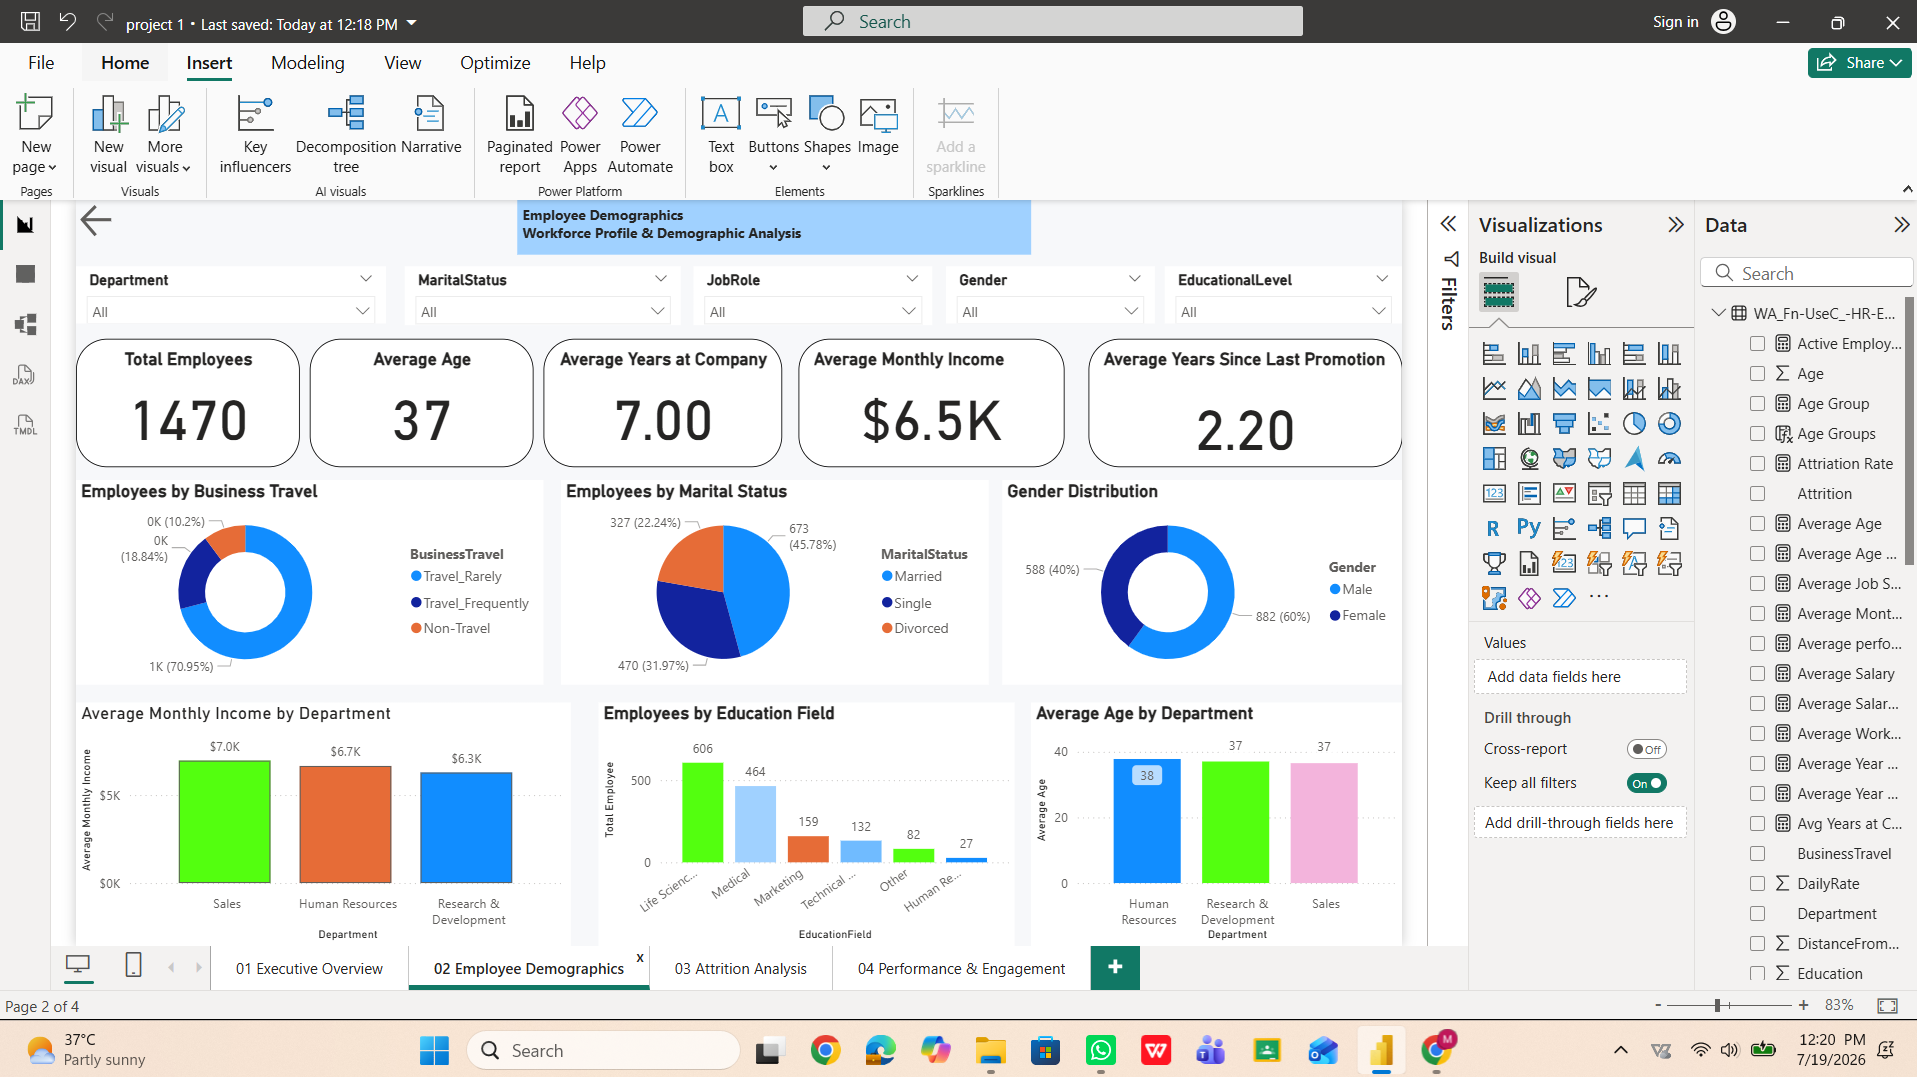

This screenshot's page, from the dashboard's own definition file:
{"tool":"powerbi","page":{"name":"02 Employee Demographics","canvas":[1280,720],"ordinal":1},"visuals":[{"type":"slicer","fields":{"Values":["WA_Fn-UseC_-HR-Employee-Attrition.Department"]},"box":[0,63.9,299.2,55.5],"z":0},{"type":"slicer","fields":{"Values":["WA_Fn-UseC_-HR-Employee-Attrition.Gender"]},"box":[839.7,63.9,201.5,55.5],"z":1000},{"type":"slicer","fields":{"Values":["WA_Fn-UseC_-HR-Employee-Attrition.Educational Column "]},"box":[1050.8,63.9,229.2,55.5],"z":2000},{"type":"slicer","fields":{"Values":["WA_Fn-UseC_-HR-Employee-Attrition.MaritalStatus"]},"box":[317.3,63.9,266.6,56.7],"z":3000},{"type":"slicer","fields":{"Values":["WA_Fn-UseC_-HR-Employee-Attrition.JobRole"]},"box":[596,63.9,230.4,56.7],"z":4000},{"type":"card","title":"Total Employees ","fields":{"Values":["WA_Fn-UseC_-HR-Employee-Attrition.Total Employee"]},"box":[0,133.9,216,124.3],"z":5000},{"type":"card","title":"Average Age ","fields":{"Values":["WA_Fn-UseC_-HR-Employee-Attrition.Average Age"]},"box":[225.6,133.9,216,124.3],"z":6000},{"type":"card","title":"Average Years at Company","fields":{"Values":["WA_Fn-UseC_-HR-Employee-Attrition.Average Age in companay"]},"box":[451.2,133.9,230.4,124.3],"z":7000},{"type":"card","title":"Average Monthly Income ","fields":{"Values":["WA_Fn-UseC_-HR-Employee-Attrition.Average Monthly Income"]},"box":[697.3,133.9,257,124.3],"z":8000},{"type":"card","title":"Average Years  Since Last Promotion ","fields":{"Values":["WA_Fn-UseC_-HR-Employee-Attrition.Average Year Since Last Promotion"]},"box":[977.2,133.9,302.8,124.3],"z":9000},{"type":"donutChart","title":"Gender Distribution","fields":{"Category":["WA_Fn-UseC_-HR-Employee-Attrition.Gender"],"Y":["WA_Fn-UseC_-HR-Employee-Attrition.Total Employee"]},"box":[894,270.2,386.1,197.9],"z":10000},{"type":"pieChart","title":"Employees by Marital Status","fields":{"Category":["WA_Fn-UseC_-HR-Employee-Attrition.MaritalStatus"],"Y":["WA_Fn-UseC_-HR-Employee-Attrition.Total Employee"]},"box":[468.1,270.2,412.6,197.9],"z":11000},{"type":"columnChart","title":"Employees by Education Field","fields":{"Category":["WA_Fn-UseC_-HR-Employee-Attrition.EducationField"],"Y":["WA_Fn-UseC_-HR-Employee-Attrition.Total Employee"]},"box":[504.3,485,401.7,235.3],"z":12000},{"type":"donutChart","title":"Employees by Business Travel","fields":{"Category":["WA_Fn-UseC_-HR-Employee-Attrition.BusinessTravel"],"Y":["WA_Fn-UseC_-HR-Employee-Attrition.Total Employee"]},"box":[0,270.2,451.2,197.9],"z":14000},{"type":"columnChart","fields":{"Category":["WA_Fn-UseC_-HR-Employee-Attrition.Department"],"Y":["WA_Fn-UseC_-HR-Employee-Attrition.Average Monthly Income"]},"box":[0,485,477.8,235.3],"z":15000},{"type":"lineStackedColumnComboChart","fields":{"Category":["WA_Fn-UseC_-HR-Employee-Attrition.Department"],"Y":["WA_Fn-UseC_-HR-Employee-Attrition.Average Age"]},"box":[921.7,485,358.3,235.3],"z":16000},{"type":"actionButton","box":[0,0,100,40],"z":16001},{"type":"textbox","box":[425.9,0,495.8,53.1],"z":16002}]}

Visuals, with their boxes on the page's 1280x720 design canvas (x1, y1, x2, y2). These are canvas units, not pixel positions in the 1917x1077 screenshot, which may show the page scaled, cropped or inside an application window:
slicer - WA_Fn-UseC_-HR-Employee-Attrition.Department: locate(0, 64, 299, 119)
slicer - WA_Fn-UseC_-HR-Employee-Attrition.Gender: locate(840, 64, 1041, 119)
slicer - WA_Fn-UseC_-HR-Employee-Attrition.Educational Column : locate(1051, 64, 1280, 119)
slicer - WA_Fn-UseC_-HR-Employee-Attrition.MaritalStatus: locate(317, 64, 584, 121)
slicer - WA_Fn-UseC_-HR-Employee-Attrition.JobRole: locate(596, 64, 826, 121)
"Total Employees " card: locate(0, 134, 216, 258)
"Average Age " card: locate(226, 134, 442, 258)
"Average Years at Company" card: locate(451, 134, 682, 258)
"Average Monthly Income " card: locate(697, 134, 954, 258)
"Average Years  Since Last Promotion " card: locate(977, 134, 1280, 258)
"Gender Distribution" donutChart: locate(894, 270, 1280, 468)
"Employees by Marital Status" pieChart: locate(468, 270, 881, 468)
"Employees by Education Field" columnChart: locate(504, 485, 906, 720)
"Employees by Business Travel" donutChart: locate(0, 270, 451, 468)
columnChart - WA_Fn-UseC_-HR-Employee-Attrition.Department x WA_Fn-UseC_-HR-Employee-Attrition.Average Monthly Income: locate(0, 485, 478, 720)
lineStackedColumnComboChart - WA_Fn-UseC_-HR-Employee-Attrition.Department x WA_Fn-UseC_-HR-Employee-Attrition.Average Age: locate(922, 485, 1280, 720)
actionButton: locate(0, 0, 100, 40)
textbox: locate(426, 0, 922, 53)
